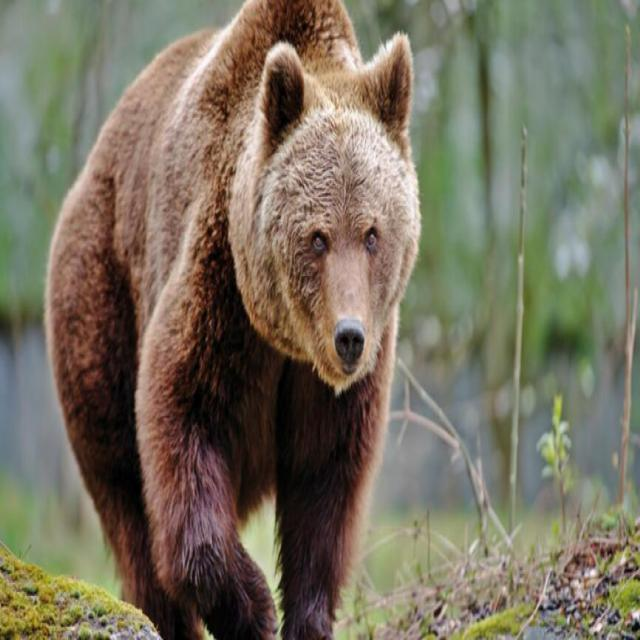Bear: (44, 0, 422, 640)
